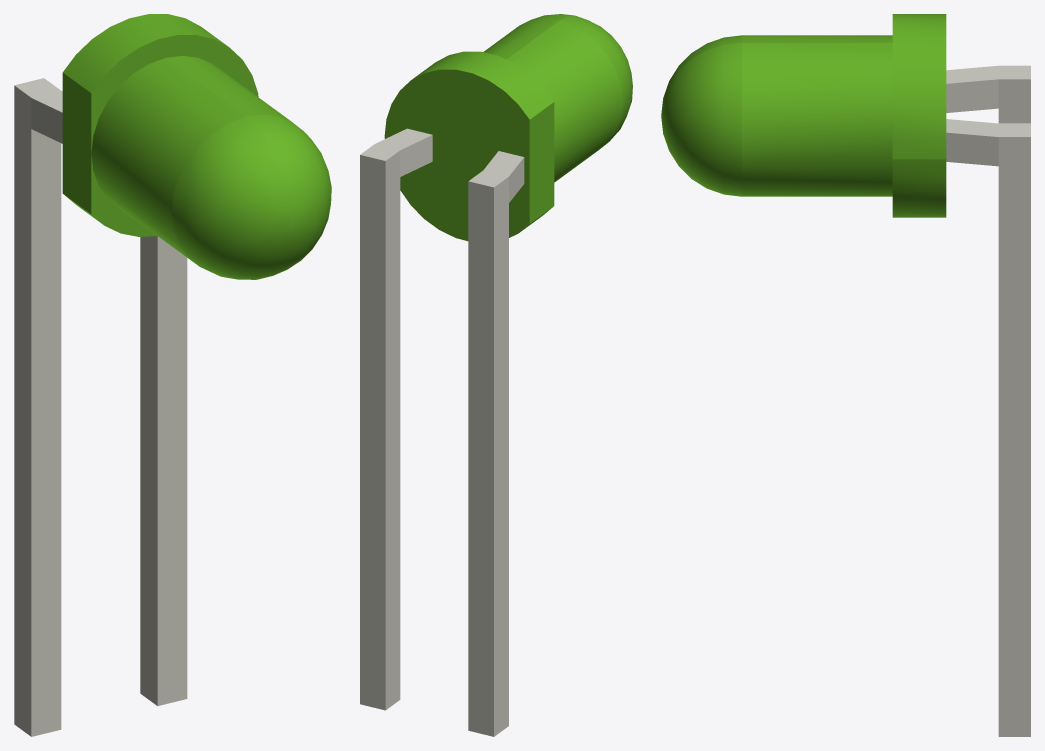
The model's file is kc-led_d3.0mm_horizontal_o1.27mm_z10.0mm.glb.
3 views of the same model, side by side, from view 1: azimuth 30°, elevation 25°; view 2: azimuth 150°, elevation 25°; view 3: azimuth 270°, elevation 25° (orthographic). The views are drawn at different scales.
Parts seen in each view (by area): view 1: 0.6666666666666666_0.6666666666666666_0.5833333333333334_0.8, 0.16666666666666666_0.4166666666666667_0_0; view 2: 0.6666666666666666_0.6666666666666666_0.5833333333333334_0.8, 0.16666666666666666_0.4166666666666667_0_0; view 3: 0.16666666666666666_0.4166666666666667_0_0, 0.6666666666666666_0.6666666666666666_0.5833333333333334_0.8.
Boxes of the visible parts, bbox=[...] form: 0.6666666666666666_0.6666666666666666_0.5833333333333334_0.8: bbox=[14, 78, 187, 736]; 0.16666666666666666_0.4166666666666667_0_0: bbox=[62, 14, 331, 279]; 0.6666666666666666_0.6666666666666666_0.5833333333333334_0.8: bbox=[360, 128, 524, 736]; 0.16666666666666666_0.4166666666666667_0_0: bbox=[384, 14, 632, 241]; 0.16666666666666666_0.4166666666666667_0_0: bbox=[661, 14, 946, 217]; 0.6666666666666666_0.6666666666666666_0.5833333333333334_0.8: bbox=[946, 65, 1030, 736].
Size of the model in its own units: 0.347 by 1.39 by 0.687.
